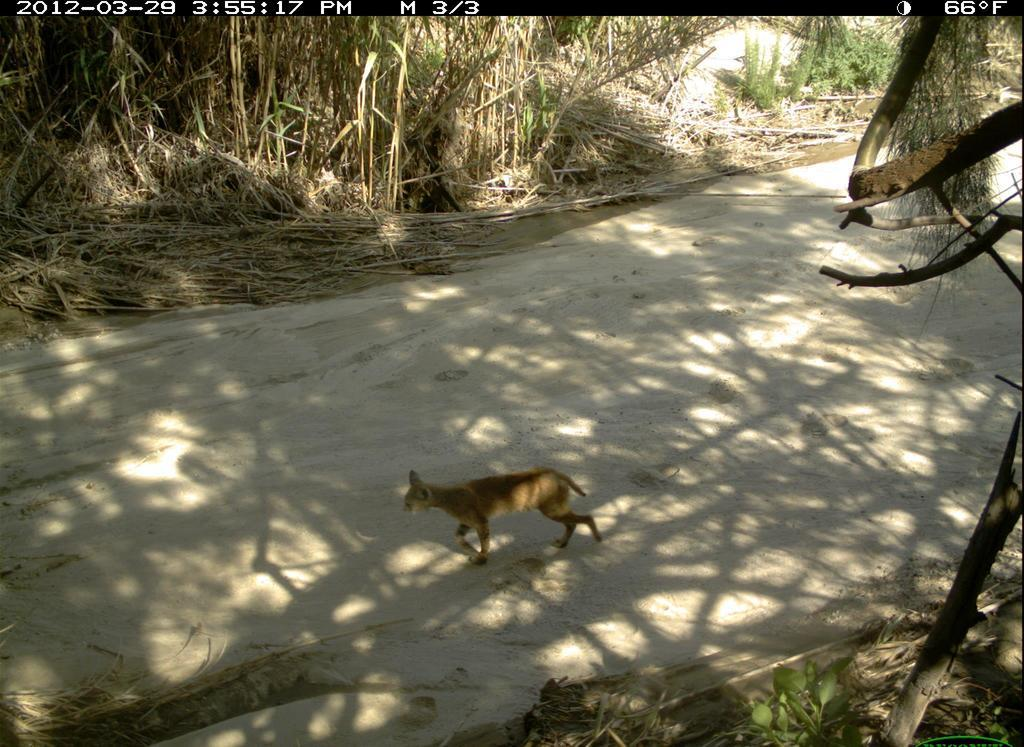bobcat: (393, 456, 619, 574)
